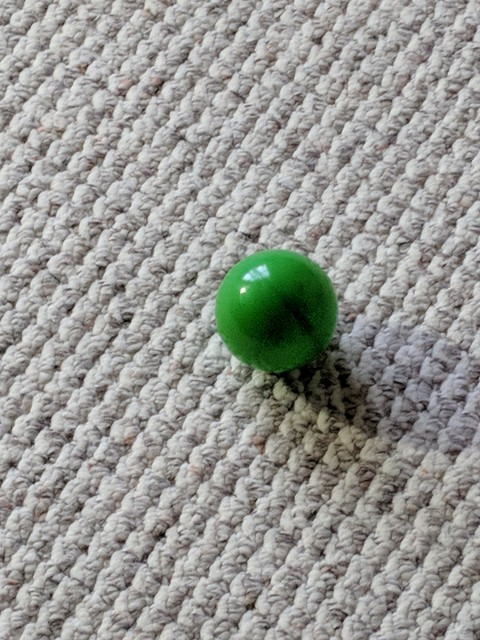Ball: (216, 248, 337, 371)
